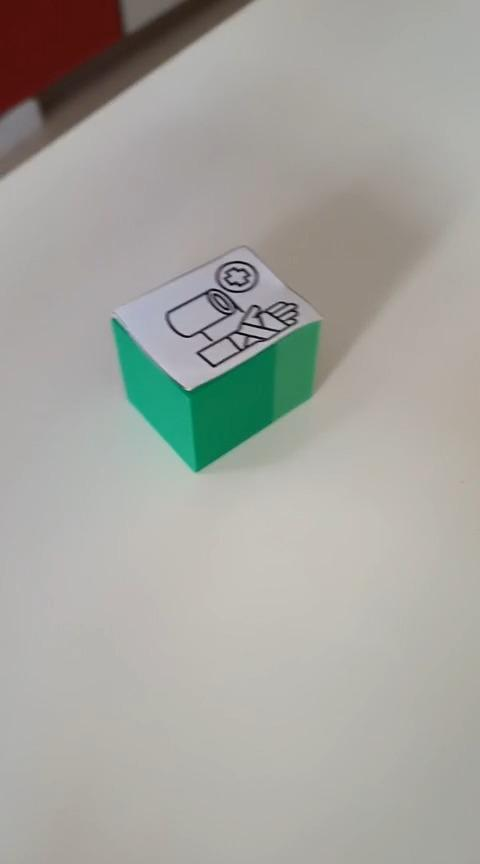Bandages: (109, 243, 324, 473)
